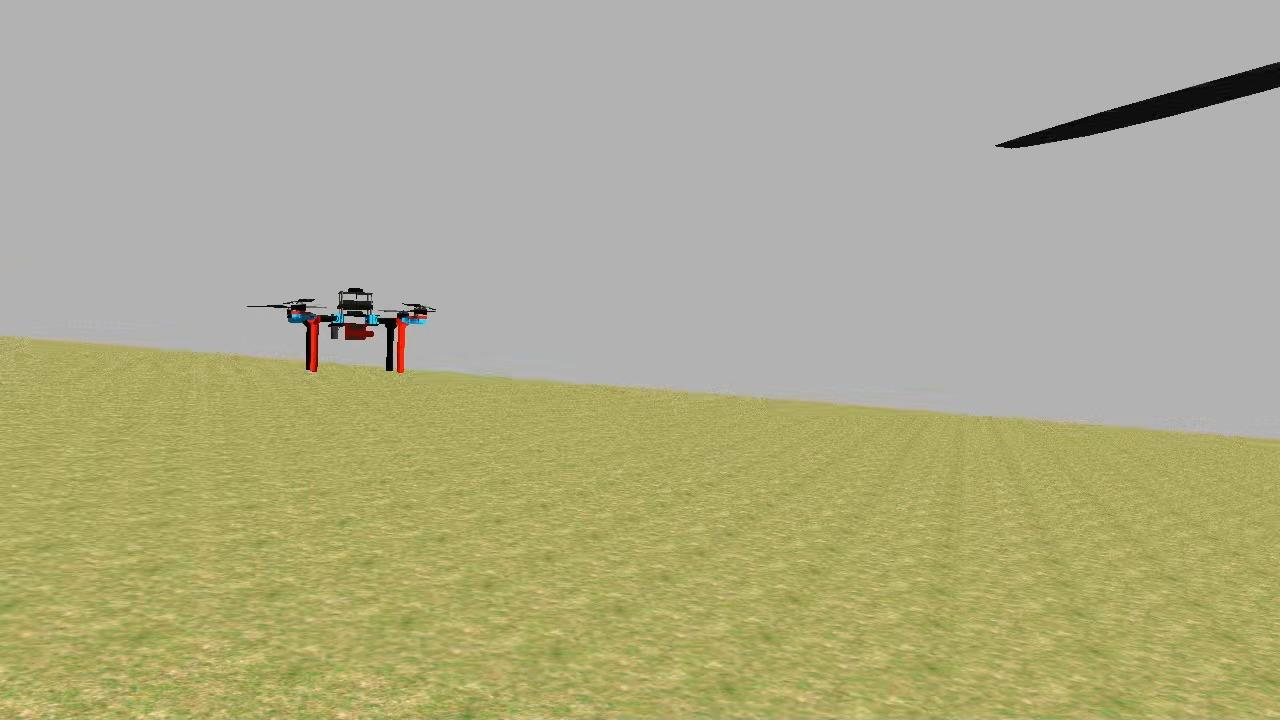UAV: (282, 282, 438, 382)
